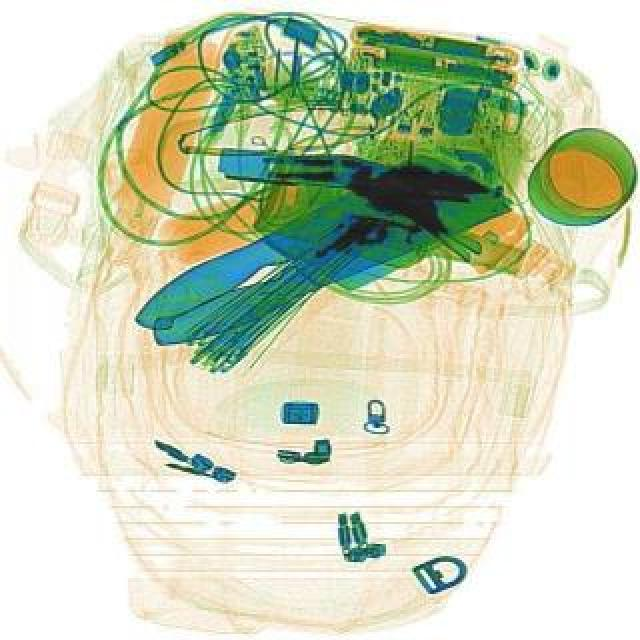knife: (128, 120, 516, 388), (126, 130, 514, 356)
